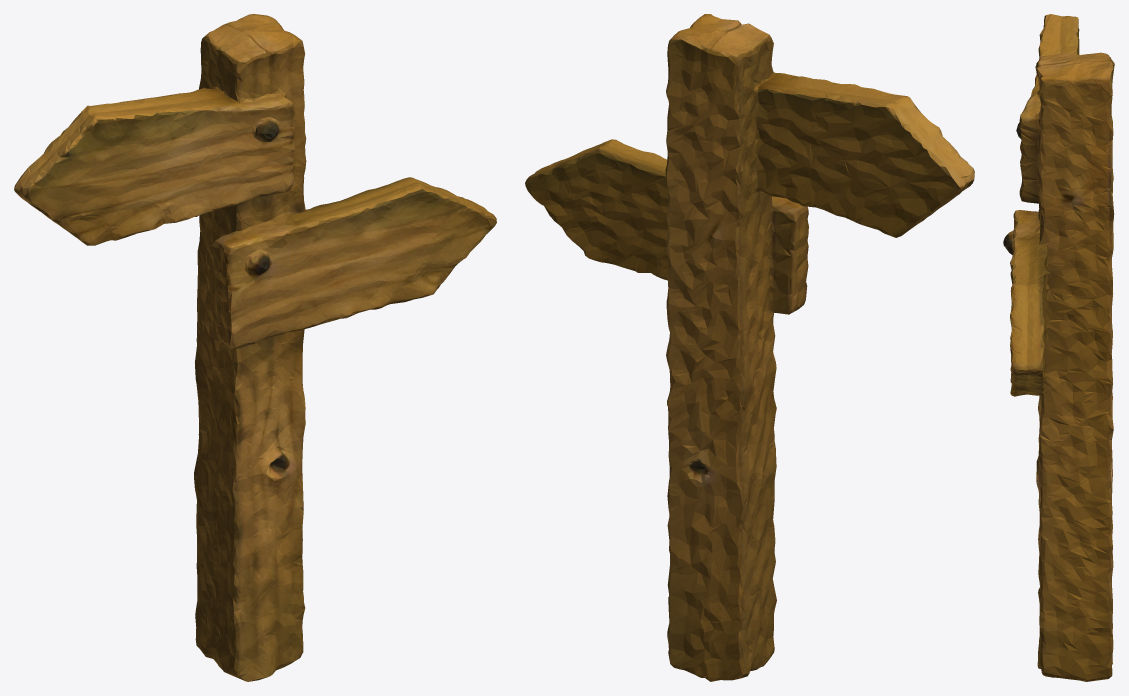
Rendered from prop-signpost.glb.
3 renders of one model, left to right at view 1: azimuth 30°, elevation 25°; view 2: azimuth 150°, elevation 25°; view 3: azimuth 270°, elevation 25°, orthographic. The views are drawn at different scales.
Parts seen in each view (by area): view 1: geometry_0; view 2: geometry_0; view 3: geometry_0.
Boxes of the visible parts, x1=… form: geometry_0: x1=14, y1=14, x2=496, y2=681; geometry_0: x1=525, y1=14, x2=974, y2=681; geometry_0: x1=1003, y1=14, x2=1114, y2=681.
Size of the model in its own units: 1.5 by 2 by 0.331.
Materials: 1 (1 with a texture image).
